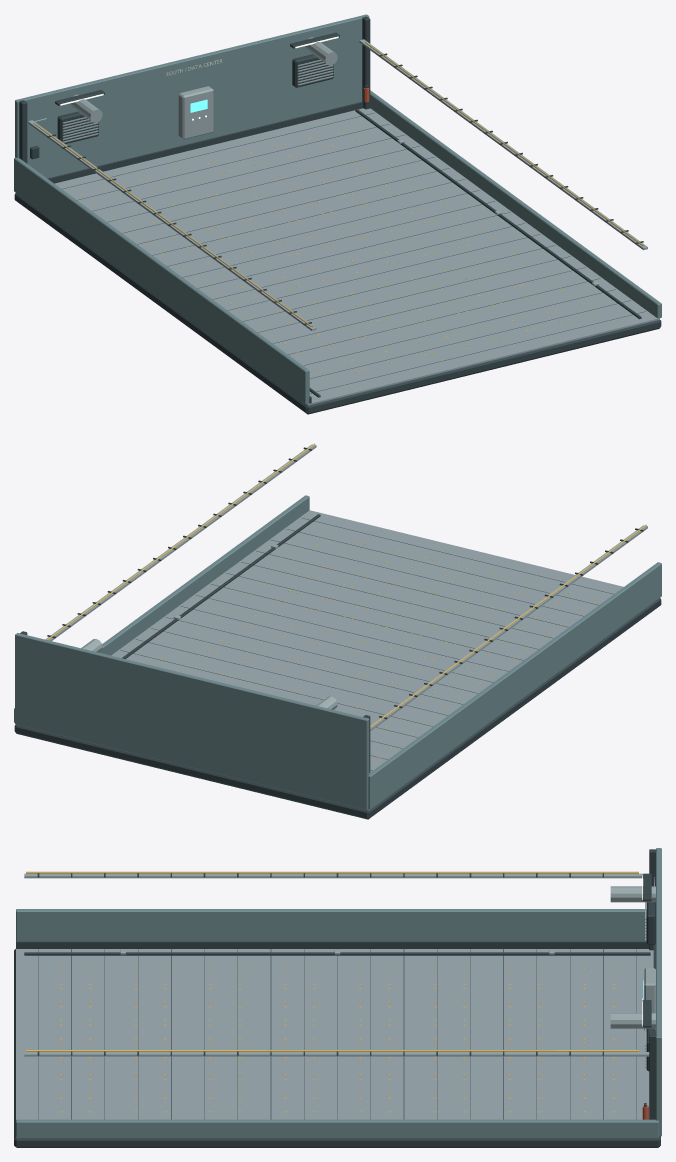
The model's file is dc-south.glb.
3 views of the same model, one above another, from view 1: azimuth 30°, elevation 25°; view 2: azimuth 150°, elevation 25°; view 3: azimuth 270°, elevation 25° (orthographic). The views are drawn at different scales.
Parts seen in each view (by area): view 1: 01 / mineral floor, 02 / painted plaster, 03 / charcoal steel, 04 / brushed alloy, 11 / safety paint; view 2: 01 / mineral floor, 02 / painted plaster, 03 / charcoal steel, 04 / brushed alloy, 11 / safety paint; view 3: 01 / mineral floor, 02 / painted plaster, 03 / charcoal steel, 04 / brushed alloy, 11 / safety paint.
Boxes of the visible parts, x1,y1,x2,y2 form: 01 / mineral floor: (55, 108, 659, 405); 02 / painted plaster: (14, 14, 661, 404); 03 / charcoal steel: (14, 16, 661, 414); 04 / brushed alloy: (27, 37, 647, 330); 11 / safety paint: (33, 42, 644, 378); 01 / mineral floor: (111, 510, 623, 810); 02 / painted plaster: (14, 495, 661, 810); 03 / charcoal steel: (14, 447, 661, 819); 04 / brushed alloy: (45, 444, 647, 731); 11 / safety paint: (46, 443, 646, 758); 01 / mineral floor: (16, 949, 658, 1137); 02 / painted plaster: (16, 848, 661, 1137); 03 / charcoal steel: (14, 849, 660, 1147); 04 / brushed alloy: (24, 873, 655, 1067); 11 / safety paint: (26, 871, 638, 1112).
Bounding box in the file's own units: 13.68 × 3.68 × 19.5.
